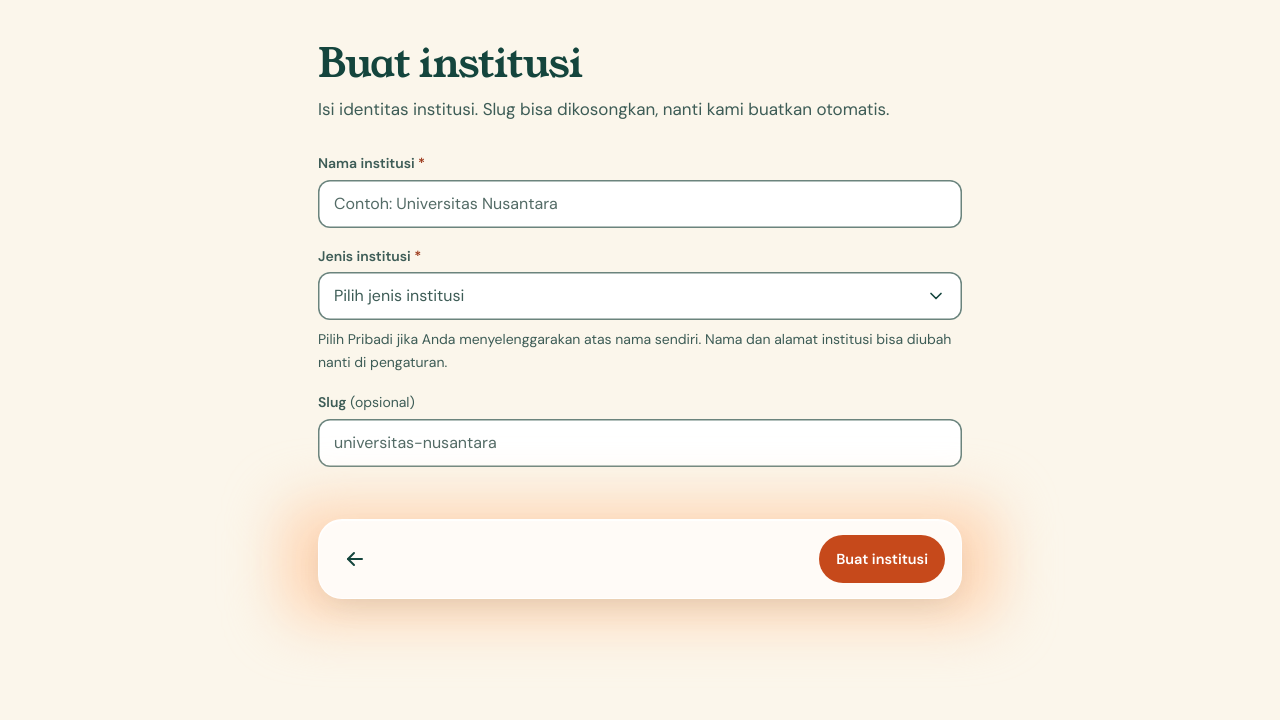
it: the workspace create form › shows the session-changed message when the create is refused for another account
The width and height of the screenshot is (1280, 720).
Type "Ruang Uji" into the field labelled "Nama institusi *" at (640,204), box [318,180,962,228]
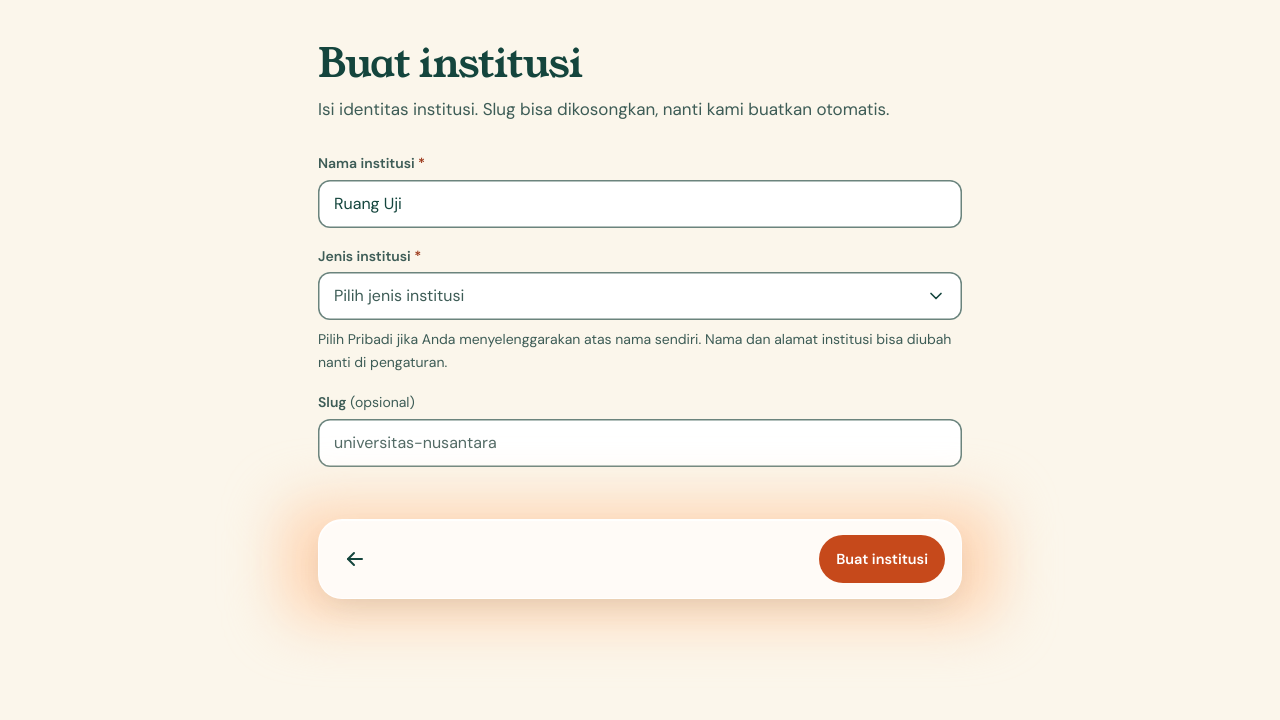
Click the dropdown named "Jenis institusi (wajib)" at (399,296), box [318,272,962,320]
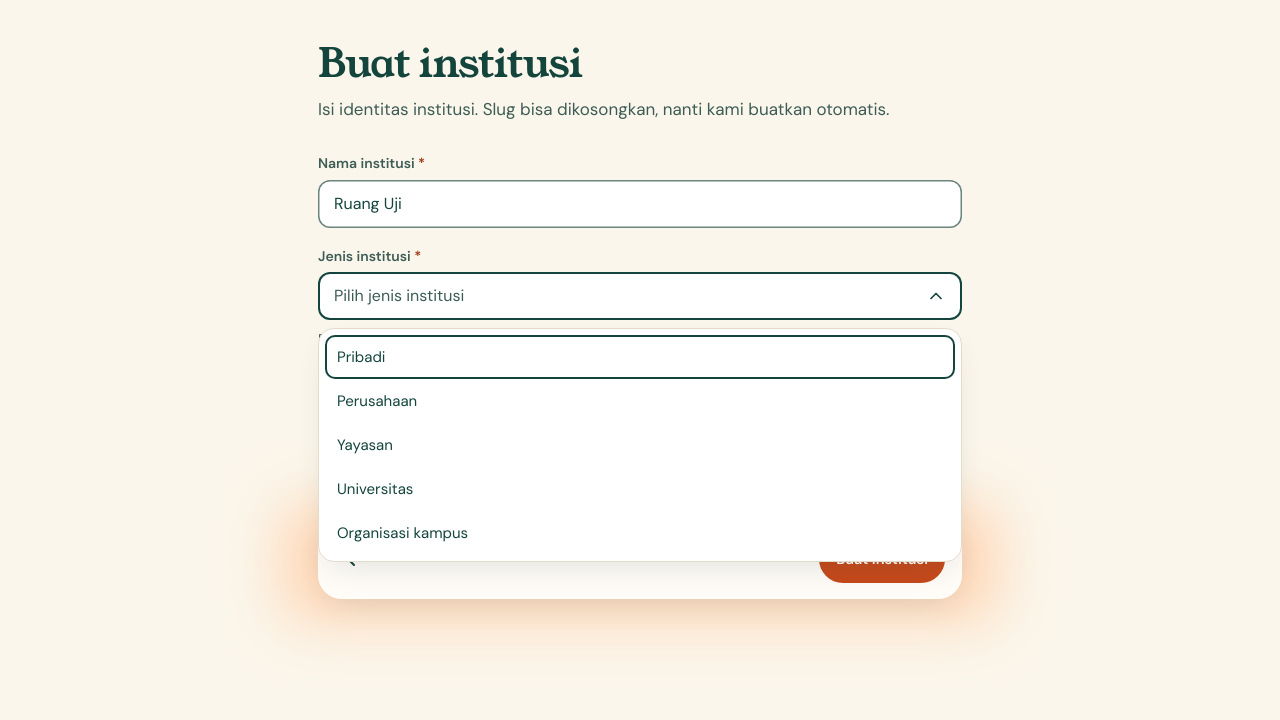
Click the option "Perusahaan" at (377,401), box [337,391,417,411]
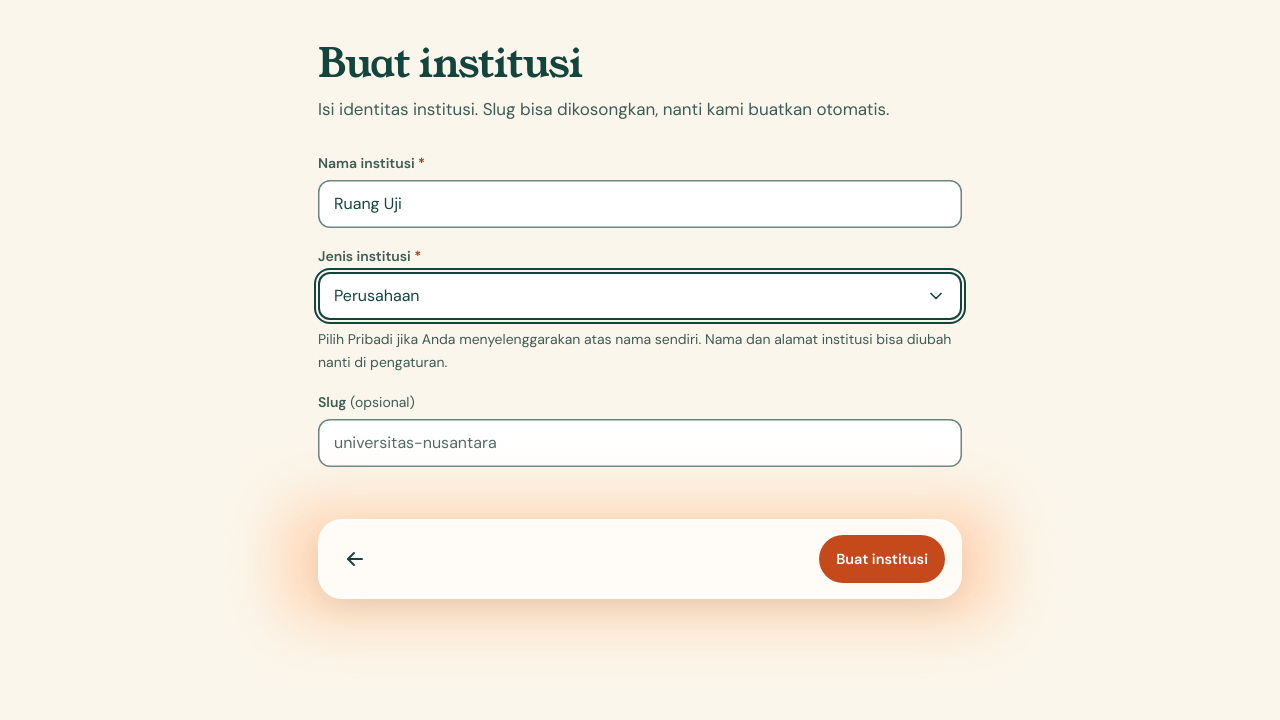
Click the button "Buat institusi" at (882,559), box [819,535,945,583]
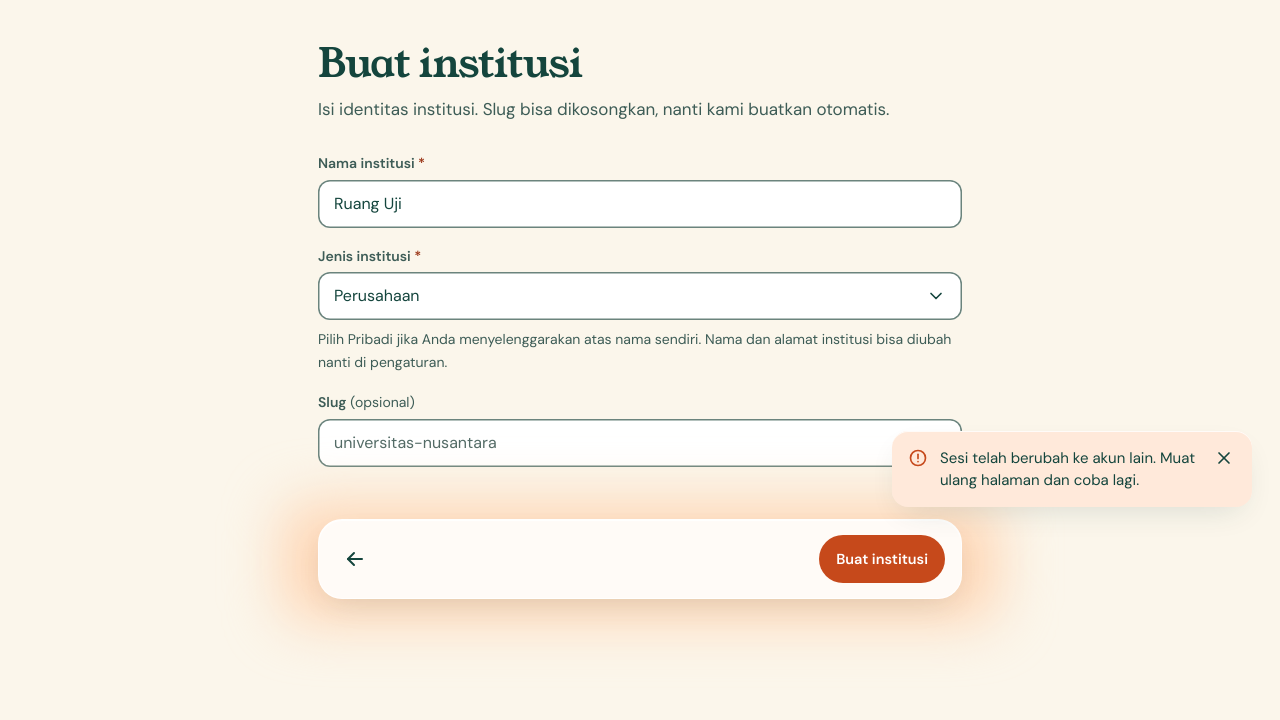
Expected: the text "Sesi telah berubah ke akun lain. Muat ulang halaman dan coba lagi." is shown, [940,447,1196,491]
